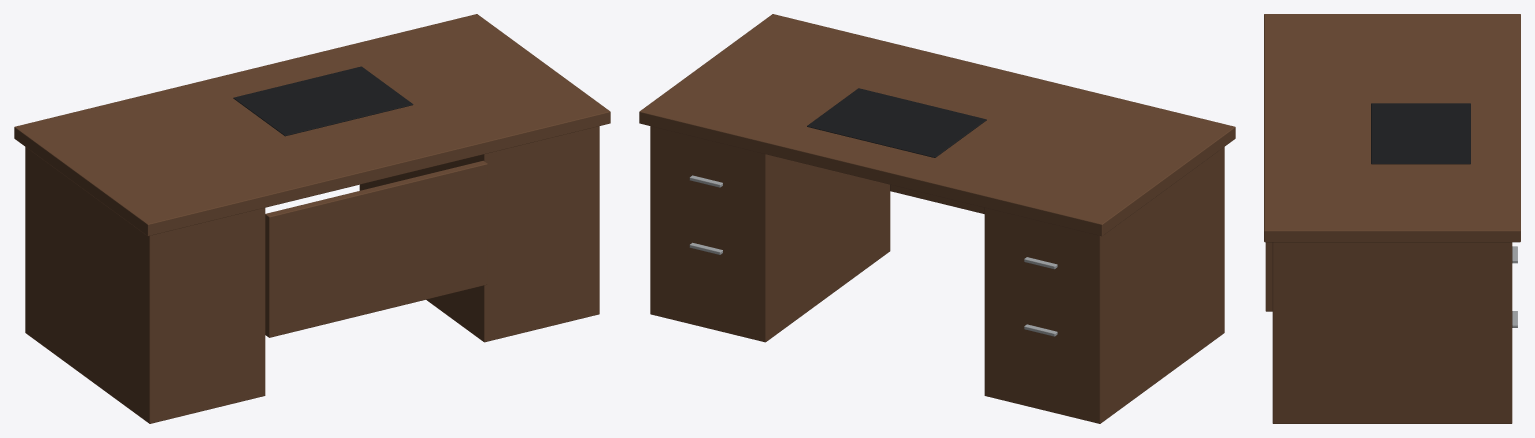
Rendered from PROP_Desk_Executive.glb.
3 views of the same model, side by side, from view 1: azimuth 30°, elevation 25°; view 2: azimuth 150°, elevation 25°; view 3: azimuth 270°, elevation 25° (orthographic). The views are drawn at different scales.
Parts seen in each view (by area): view 1: PROP_Desk_Executive_Mesh; view 2: PROP_Desk_Executive_Mesh; view 3: PROP_Desk_Executive_Mesh.
Part boxes in pixels (bbox=[...]): PROP_Desk_Executive_Mesh: bbox=[14, 14, 610, 423]; PROP_Desk_Executive_Mesh: bbox=[639, 14, 1235, 423]; PROP_Desk_Executive_Mesh: bbox=[1264, 14, 1520, 423].
Size of what is drawn, in the model's own units: 1.8 by 0.764 by 0.9.
